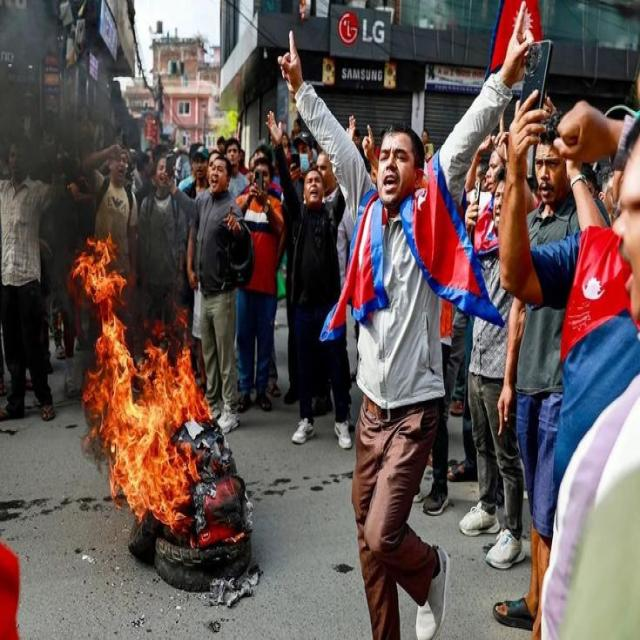fire: (82, 324, 211, 532), (69, 230, 127, 323)
